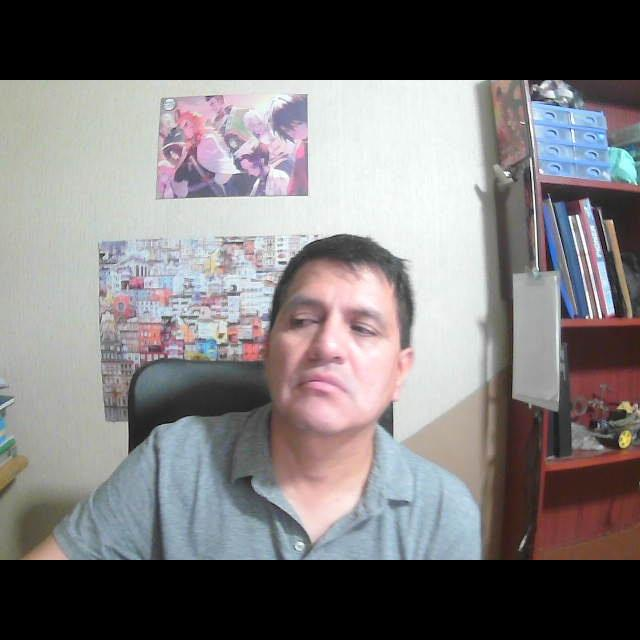cesar: (252, 220, 428, 476)
